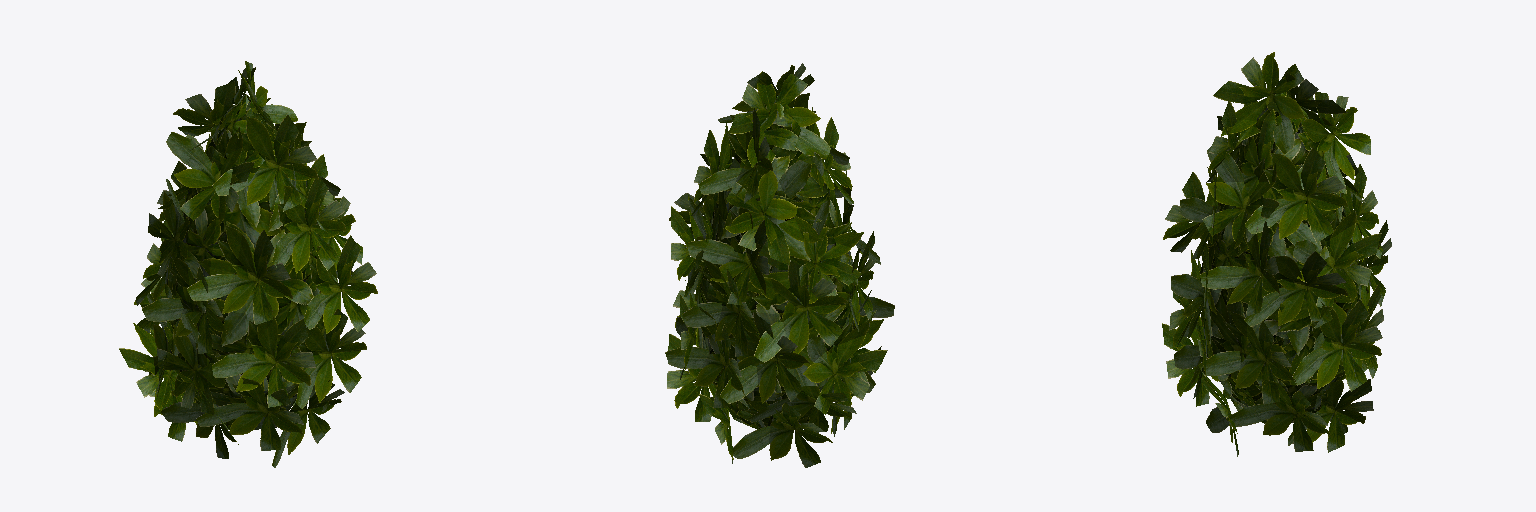
The picture shows the model from 3 angles: view 1: azimuth 30°, elevation 25°; view 2: azimuth 150°, elevation 25°; view 3: azimuth 270°, elevation 25°; orthographic projection.
Visible parts, largest first — view 1: mazePlantPointySmall_leafs, mazePlantPointySmall_base; view 2: mazePlantPointySmall_leafs, mazePlantPointySmall_base; view 3: mazePlantPointySmall_leafs, mazePlantPointySmall_base.
Boxes of the visible parts, <box> form: mazePlantPointySmall_leafs: <box>119,61,377,467</box>; mazePlantPointySmall_base: <box>165,94,324,429</box>; mazePlantPointySmall_leafs: <box>665,63,894,467</box>; mazePlantPointySmall_base: <box>696,95,857,429</box>; mazePlantPointySmall_leafs: <box>1162,52,1391,456</box>; mazePlantPointySmall_base: <box>1200,92,1359,423</box>.
Size of the model in its own units: 0.8809 by 1.55 by 0.8875.
Materials: 2 (2 with a texture image).